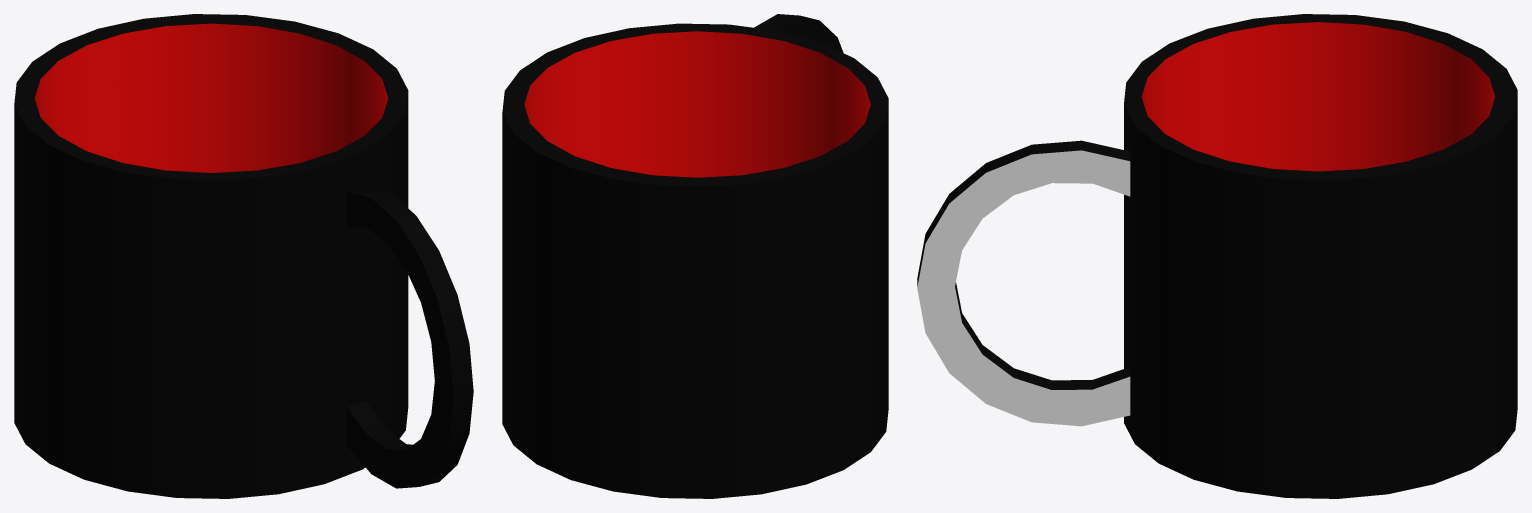
The model's file is mug_06_origin_gt_4.dae.
3 renders of one model, left to right at view 1: azimuth 30°, elevation 25°; view 2: azimuth 150°, elevation 25°; view 3: azimuth 270°, elevation 25°, orthographic. The views are drawn at different scales.
Parts seen in each view (by area): view 1: SketchUp (×3); view 2: SketchUp (×3); view 3: SketchUp (×4).
Part boxes in pixels (bbox=[...]): SketchUp (×3): bbox=[14, 14, 473, 498]; SketchUp (×3): bbox=[502, 14, 888, 498]; SketchUp (×4): bbox=[917, 14, 1517, 498].
Size of the model in its own units: 56.75 by 86.52 by 50.64.
